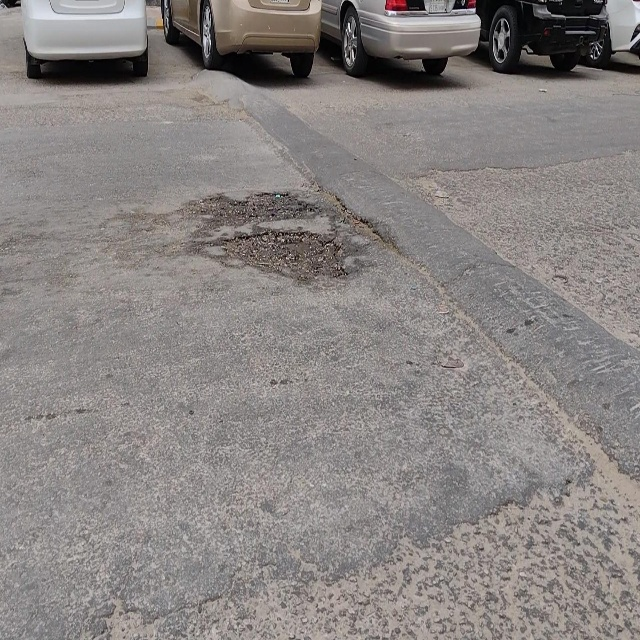pothole: (212, 228, 348, 288), (203, 187, 323, 232)
